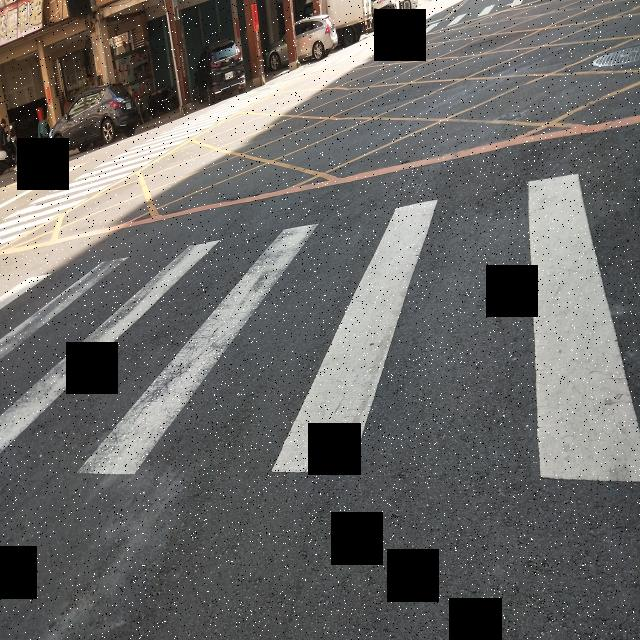zebra crossing: (0, 180, 640, 480), (1, 81, 288, 243), (388, 0, 524, 45)
